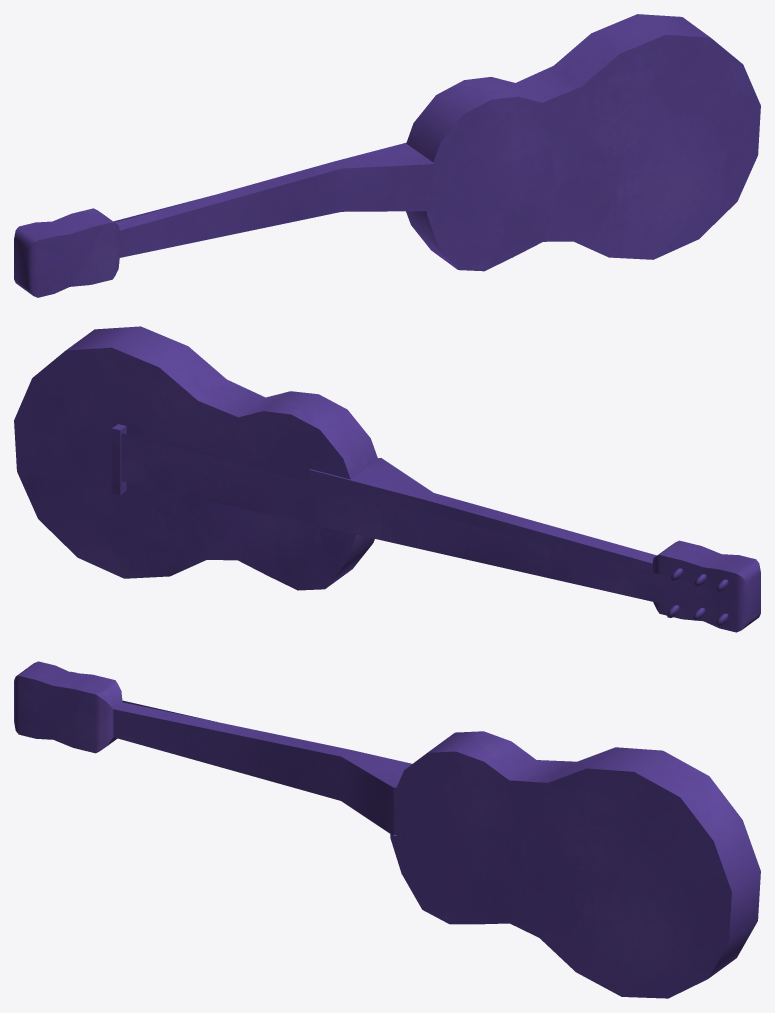
File: guitar2.fbx
3 renders of one model, top to bottom at view 1: azimuth 30°, elevation 25°; view 2: azimuth 150°, elevation 25°; view 3: azimuth 330°, elevation 25°, orthographic. The views are drawn at different scales.
Visible parts, largest first — view 1: pSphere13; view 2: pSphere13; view 3: pSphere13.
Part boxes in pixels (left/top/right/bottom): pSphere13: left=14, top=14, right=760, bottom=297; pSphere13: left=14, top=326, right=760, bottom=632; pSphere13: left=14, top=661, right=760, bottom=998.
Bounding box in the file's own units: 3.8 × 1.12 × 0.3793.
